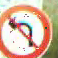Don't turn left: (0, 3, 55, 56)
